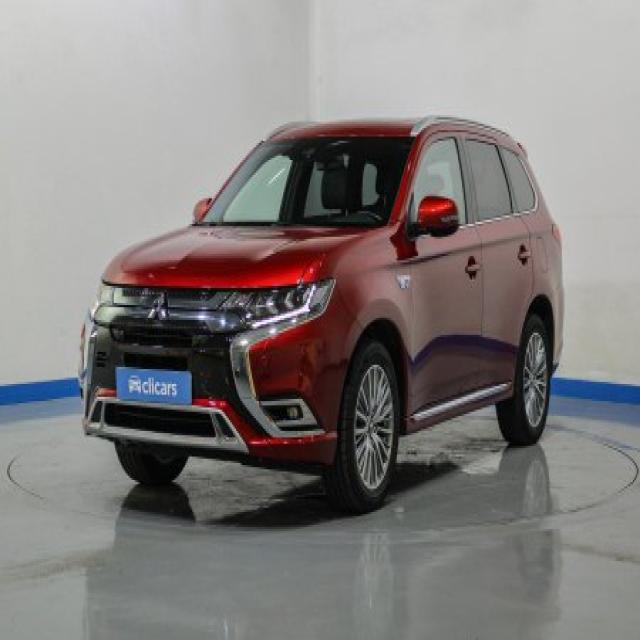light_vehicle: (78, 115, 566, 512)
